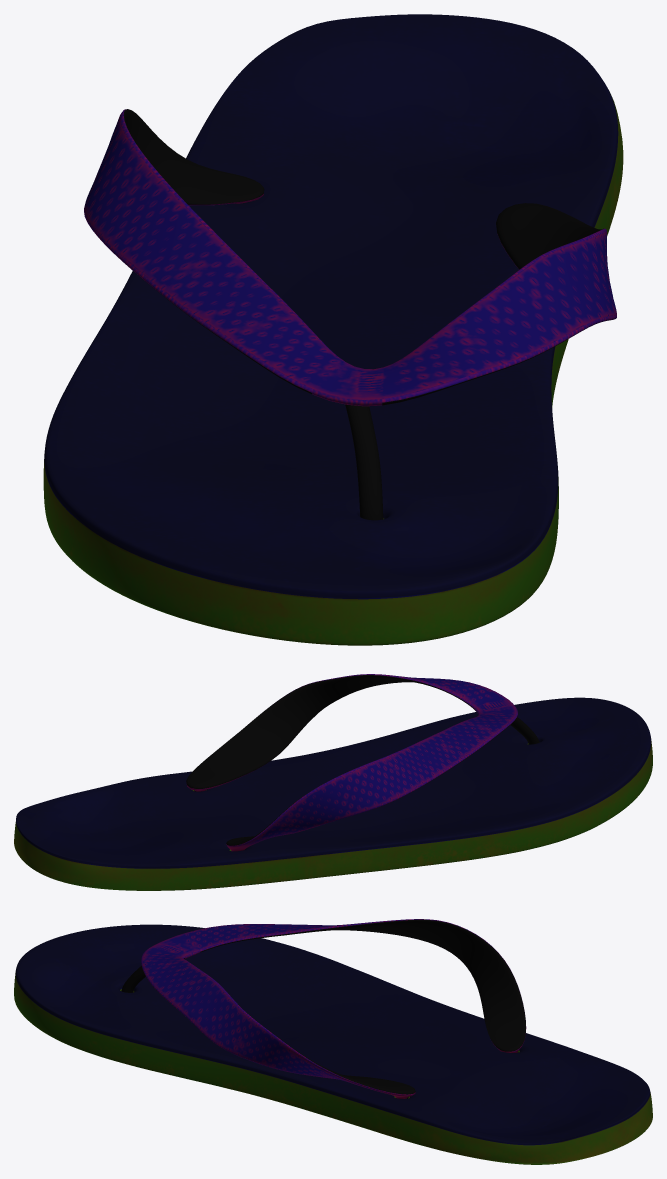
The model's file is chinelo.glb.
3 renders of one model, top to bottom at view 1: azimuth 30°, elevation 25°; view 2: azimuth 150°, elevation 25°; view 3: azimuth 270°, elevation 25°, orthographic. The views are drawn at different scales.
Parts seen in each view (by area): view 1: Strap; view 2: Strap; view 3: Strap.
Boxes of the visible parts, bbox=[...] form: Strap: bbox=[43, 14, 623, 645]; Strap: bbox=[14, 674, 652, 890]; Strap: bbox=[14, 919, 652, 1164].
Bounding box in the file's own units: 0.2151 × 0.0512 × 0.2643.
Materials: 2 (2 with a texture image).
